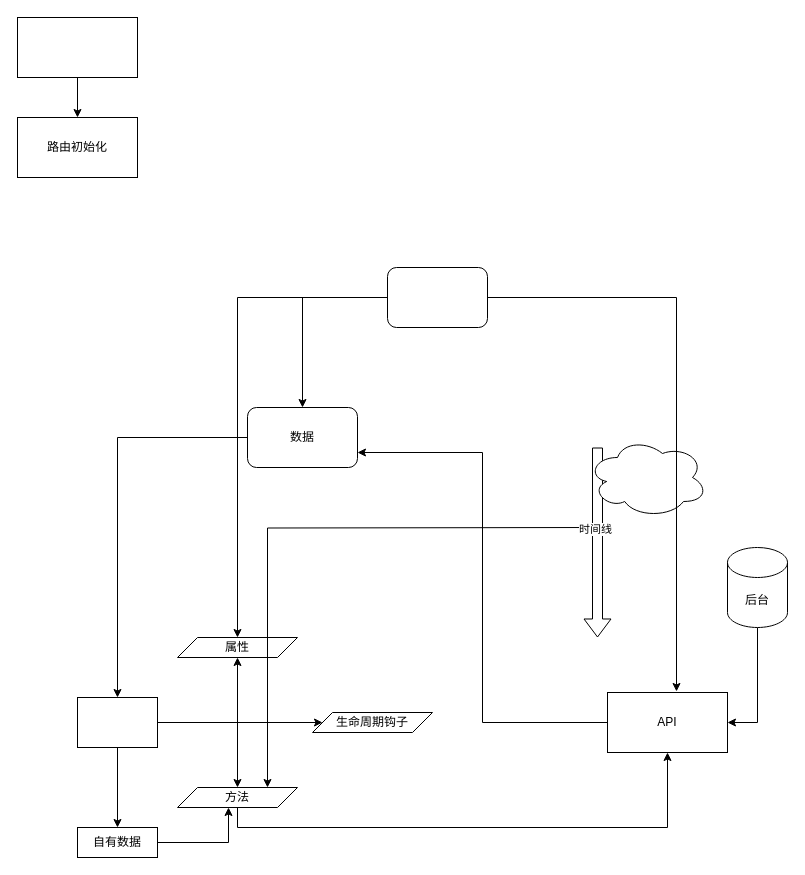
Image size: 805x875. Some labels were removed from this diagram. The shapes that lost their labels are listed below. From the top down, each one's centre as x and y in pixels, then its label:
At (77,47): "应用初始化".
At (437,297): "配置数据".
At (647,477): "总体async".
At (117,722): "组件".
